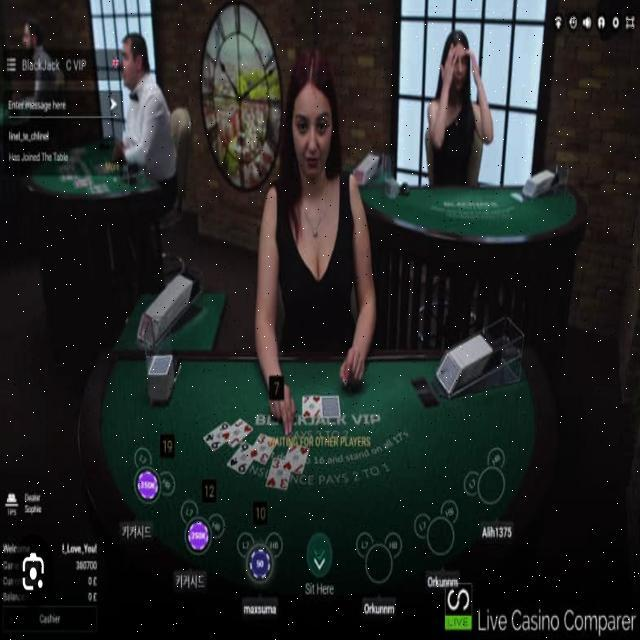Card-3: (249, 432, 277, 466), (265, 456, 290, 491)
Card-7: (283, 444, 309, 475), (303, 395, 320, 418)
Card-9: (226, 440, 253, 476), (202, 420, 229, 451)
Card-J: (220, 418, 254, 449)
